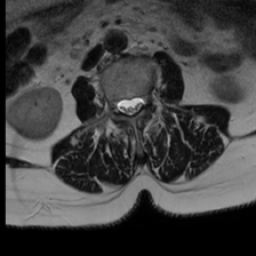CCS_normal: (126, 89, 134, 123)
LFS_normal: (142, 86, 150, 113)
LLS_normal: (134, 89, 143, 115)
RFS_normal: (109, 91, 117, 119)
RLS_normal: (117, 91, 126, 119)
